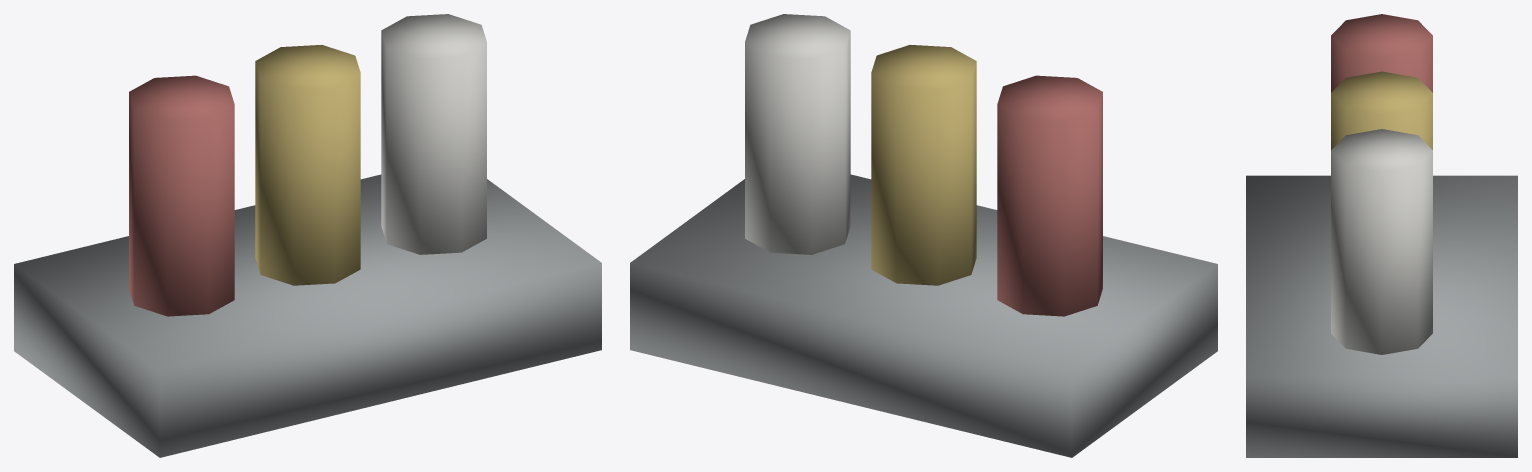
File: condiment_station__reinforced.glb
3 renders of one model, left to right at view 1: azimuth 30°, elevation 25°; view 2: azimuth 150°, elevation 25°; view 3: azimuth 270°, elevation 25°, orthographic. The views are drawn at different scales.
Parts seen in each view (by area): view 1: world; view 2: world; view 3: world.
Boxes of the visible parts, bbox=[...] form: world: bbox=[14, 14, 601, 457]; world: bbox=[630, 14, 1217, 457]; world: bbox=[1246, 14, 1517, 457].
Size of the model in its own units: 0.4326 by 0.2652 by 0.2472.
